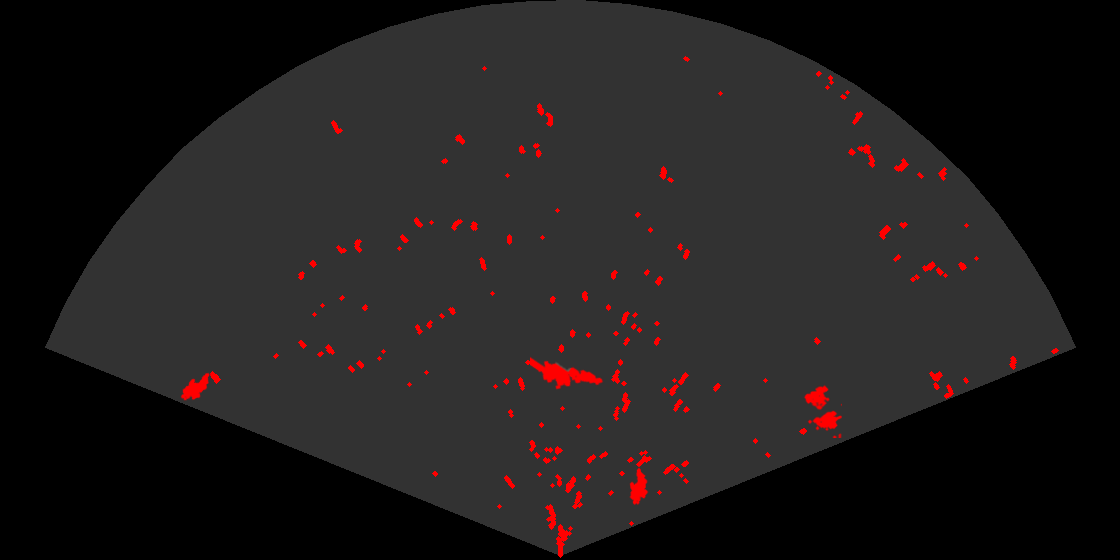AUV: (179, 371, 211, 402), (628, 466, 650, 507)
cage: (802, 383, 842, 438)
frogman: (530, 355, 605, 391)
